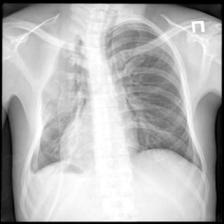tuberculosis: (24, 15, 208, 200)
